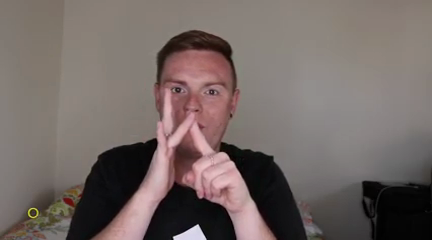O: (144, 83, 249, 215)
